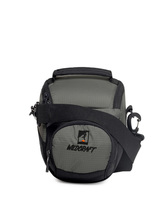bag: (26, 63, 144, 184)
